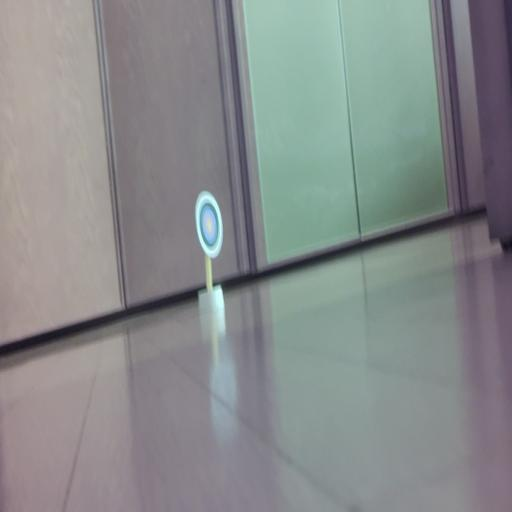target: (196, 191, 223, 258)
